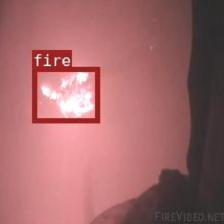fire: (32, 66, 99, 122)
